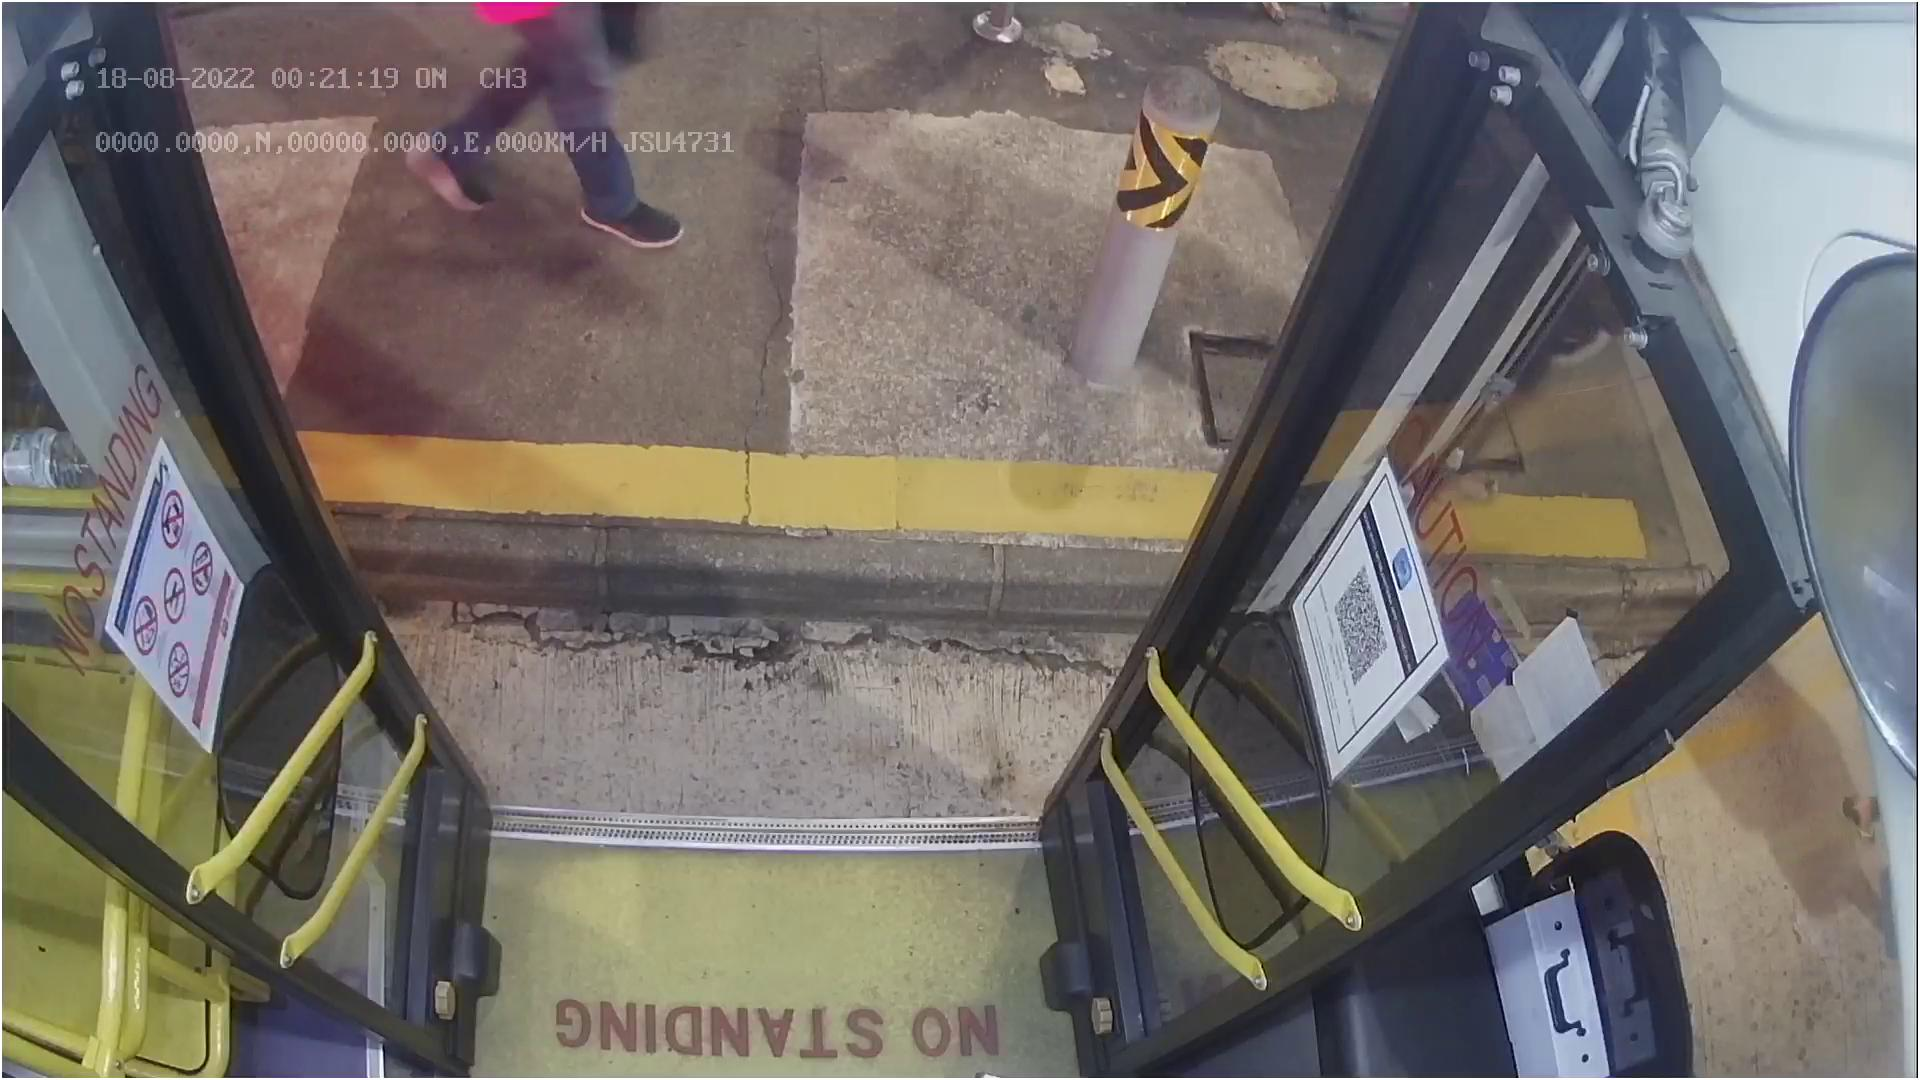open: (170, 0, 1383, 157)
